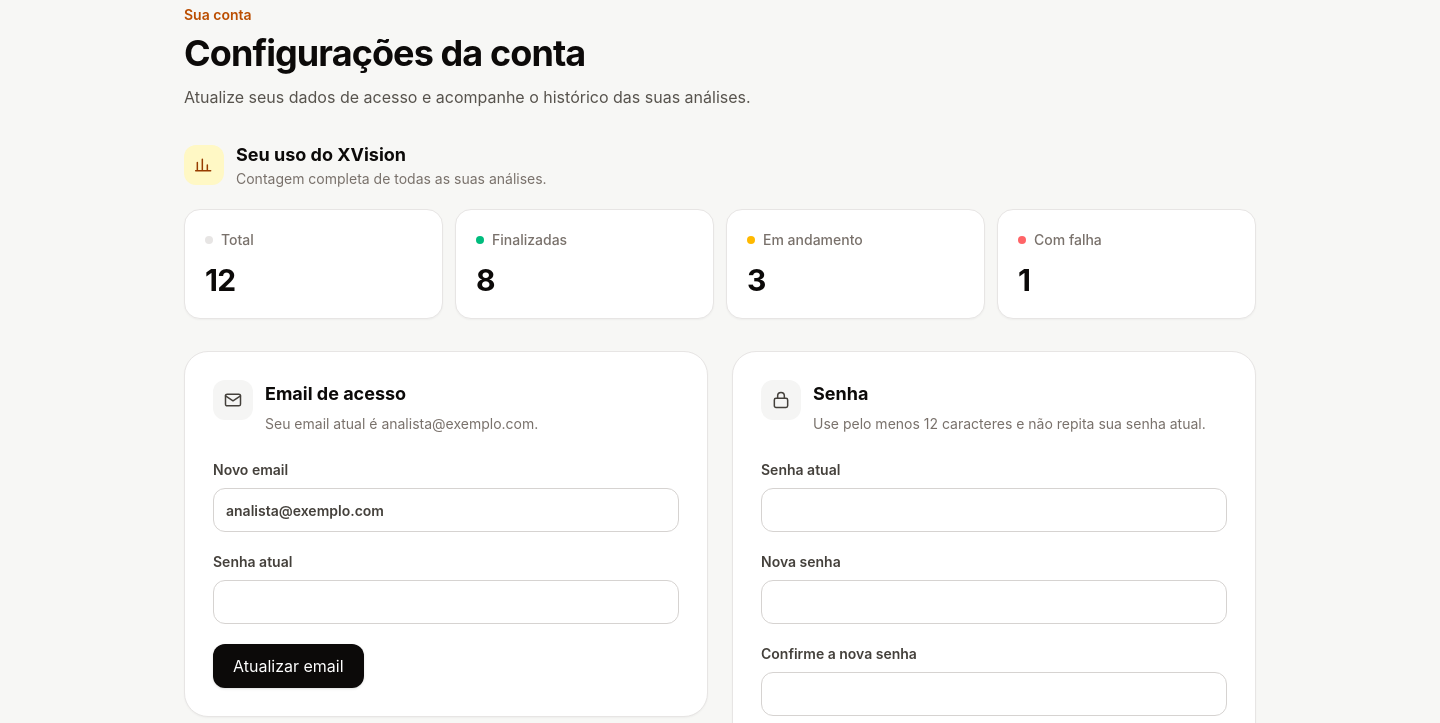
Test: Account › troca a senha e limpa os tres campos
Type "senha-atual-bem-longa" into the 1st password field labelled "Senha atual". click: [994, 510]
box: 761,488 -> 1227,532
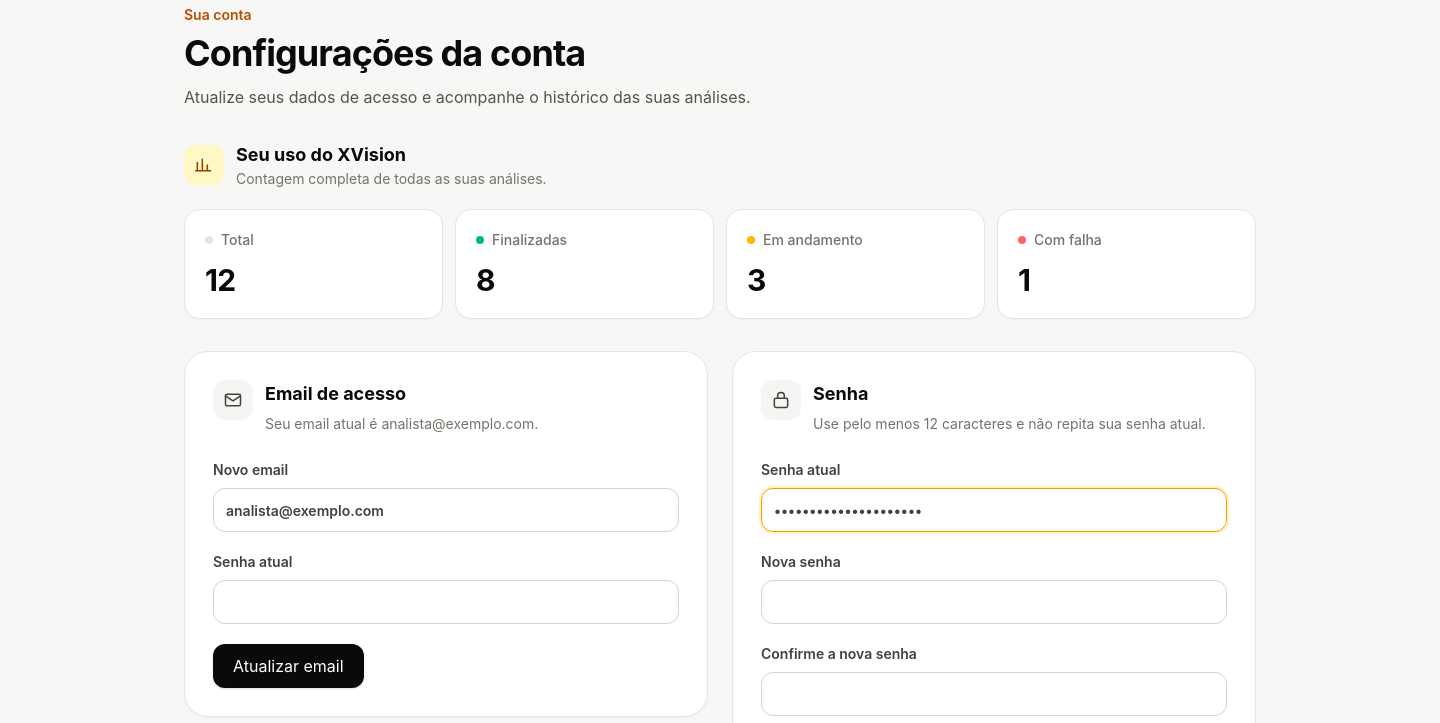
Type "uma-nova-senha-bem-longa" into the password field labelled "Nova senha". click: [994, 602]
box: 761,580 -> 1227,624
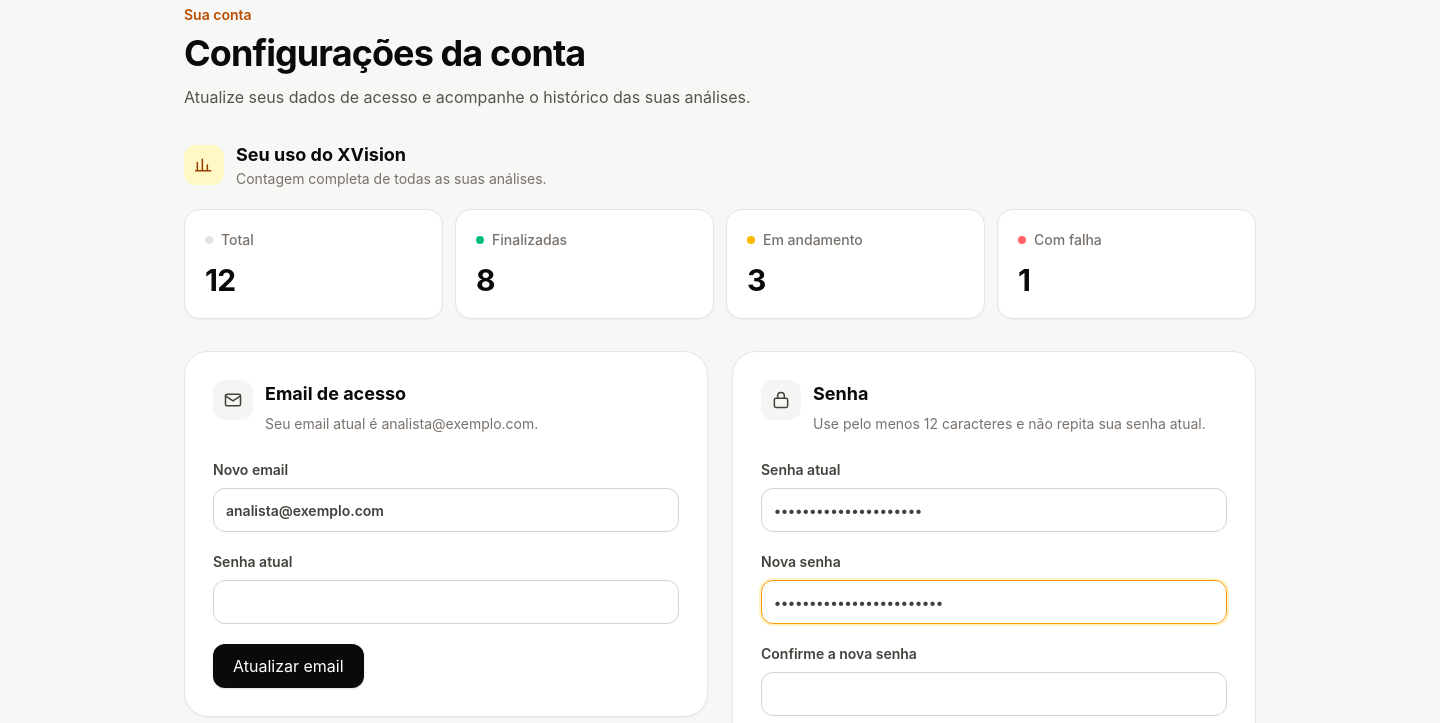
Type "uma-nova-senha-bem-longa" into the password field labelled "Confirme a nova senha". click: [994, 694]
box: 761,672 -> 1227,716
(page scrolled)
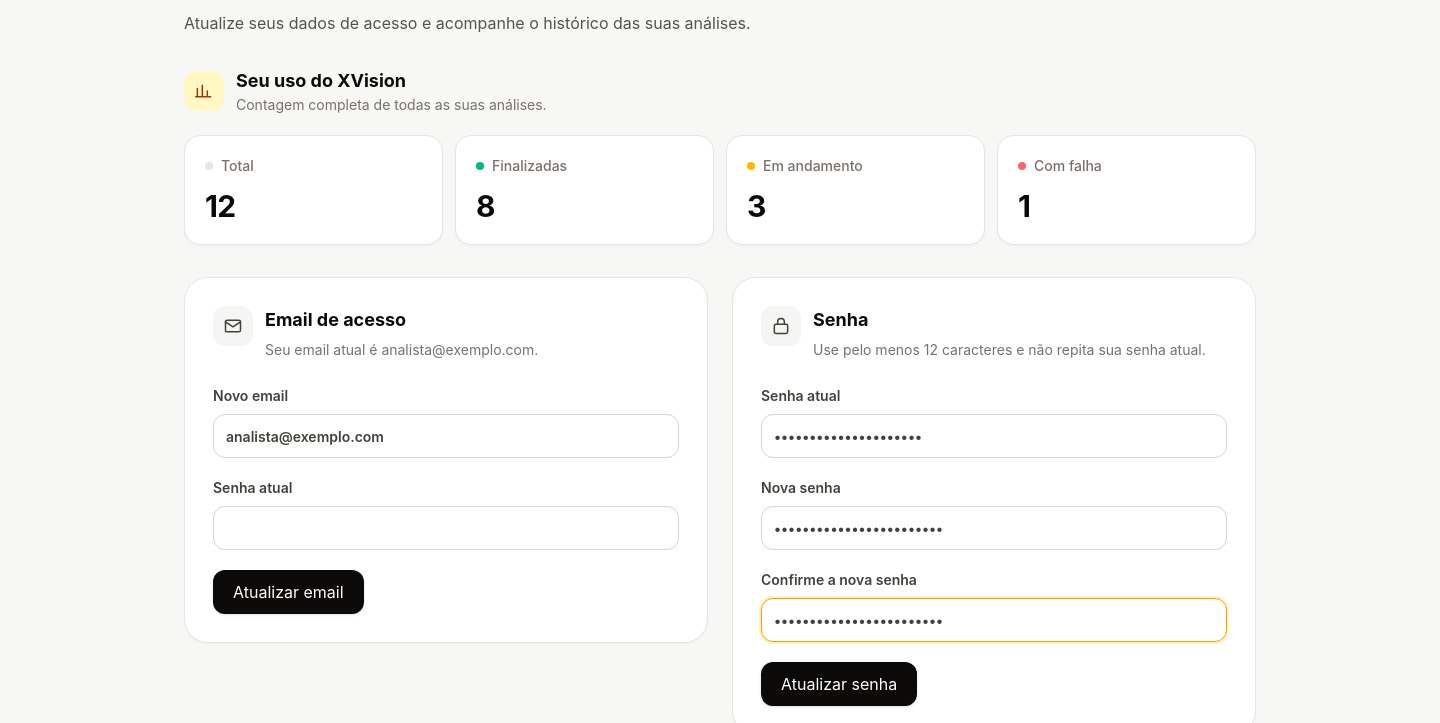
Click the button "Atualizar senha". click: [839, 684]
box: 761,662 -> 917,706
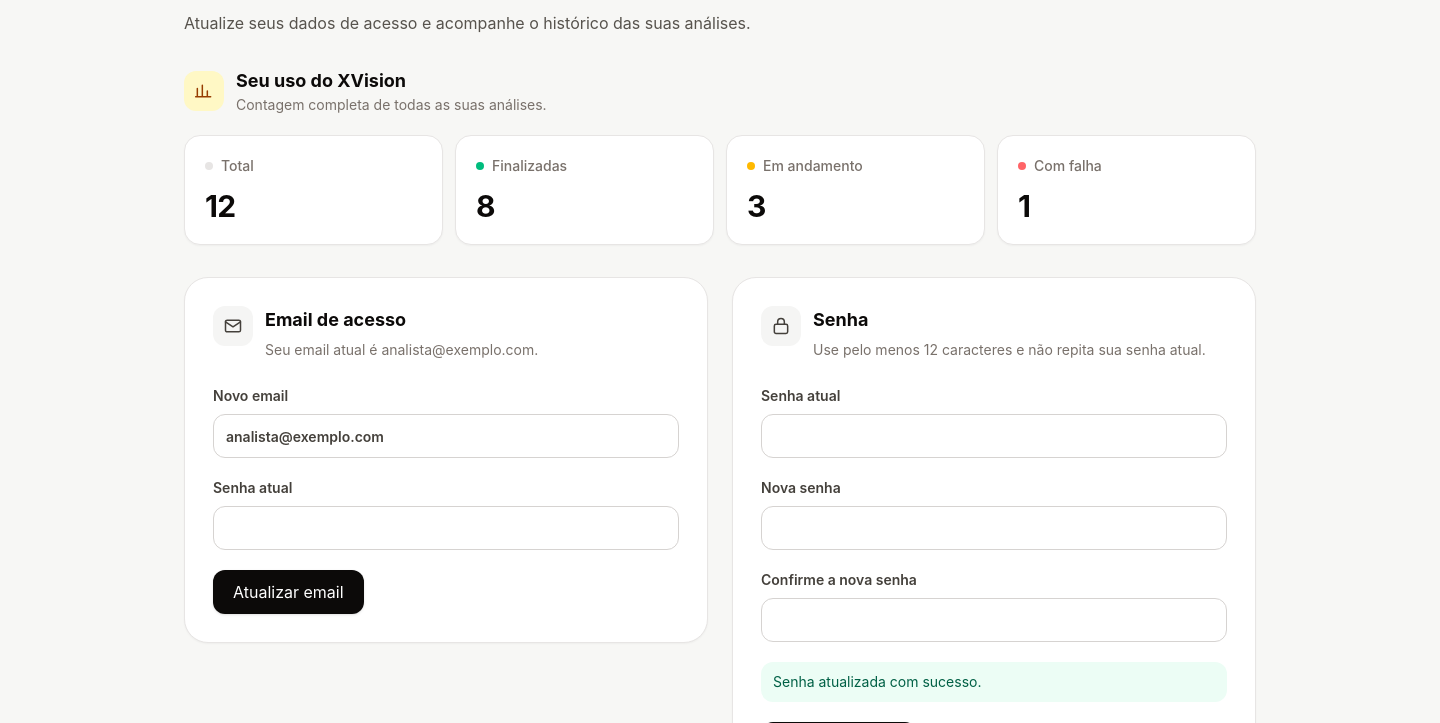
Expected: the message shows "Senha atualizada", 773,673 -> 982,690
Expected: the 1st password field labelled "Senha atual" is empty, 761,414 -> 1227,458
Expected: the password field labelled "Nova senha" is empty, 761,506 -> 1227,550
